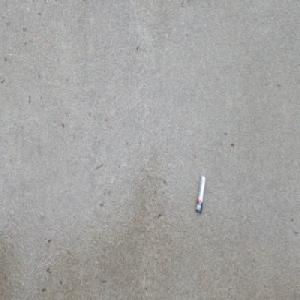Battery: (195, 175, 207, 216)
